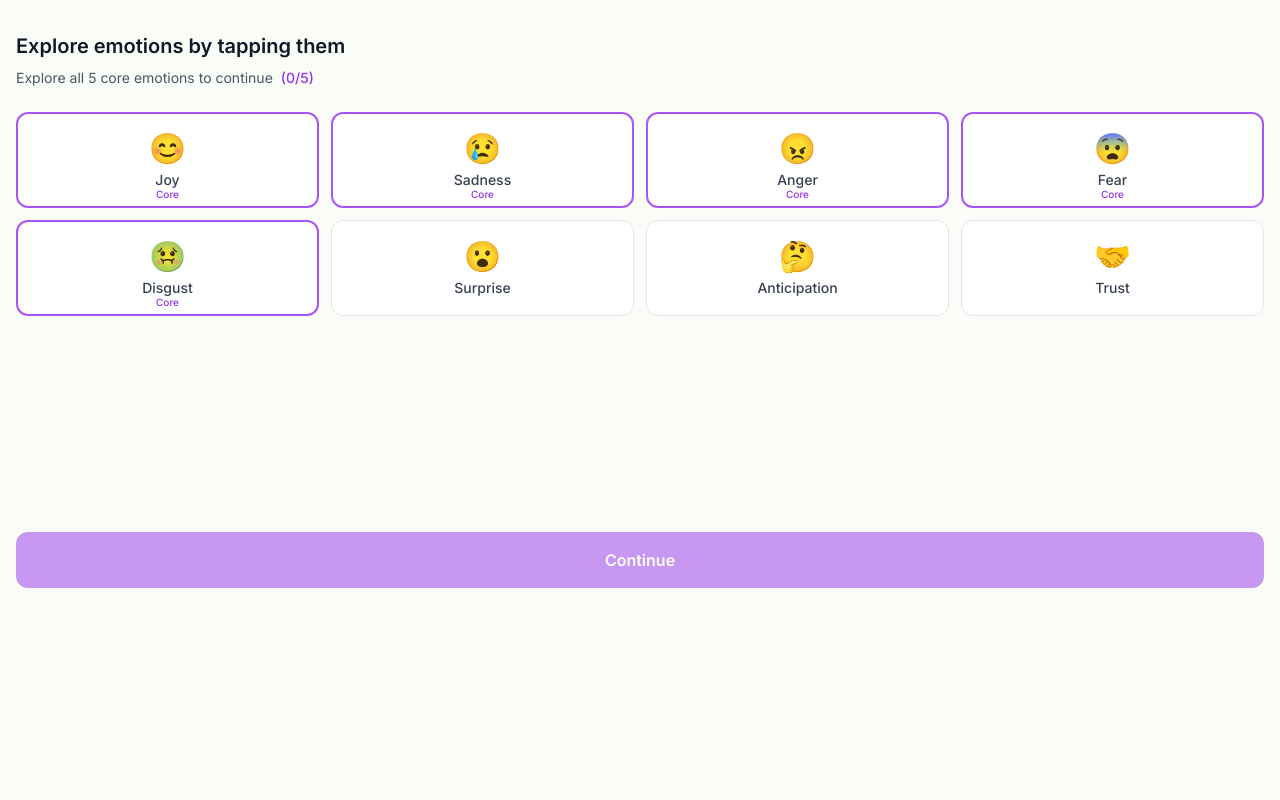
Test: EmojiGrid › modal functionality › closes modal when close button is clicked
# Open modal
Click the cell "😊 Joy Core". click: (168, 160)
box: x1=16 y1=112 x2=319 y2=208
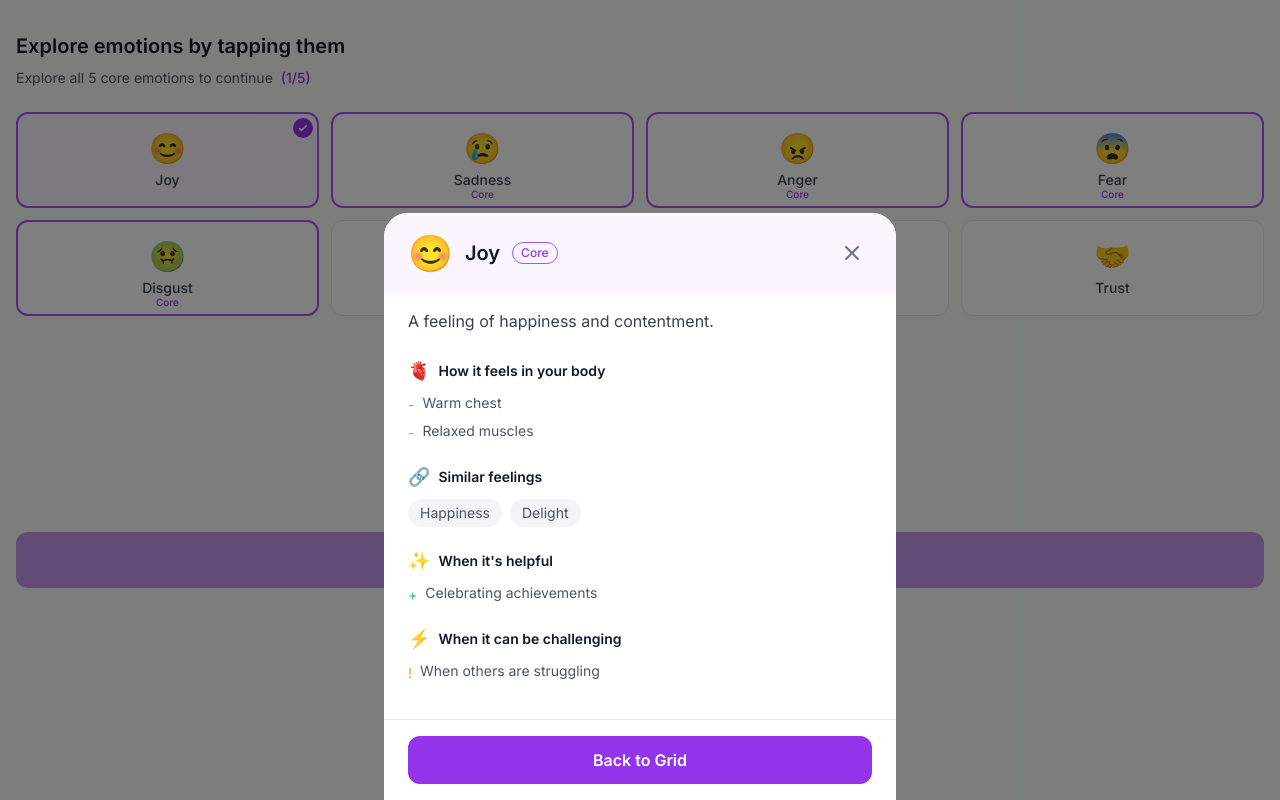
expect the dialog is shown: met
# Close modal
Click the button named "Close emotion details". click: (852, 253)
box: x1=832 y1=233 x2=872 y2=273
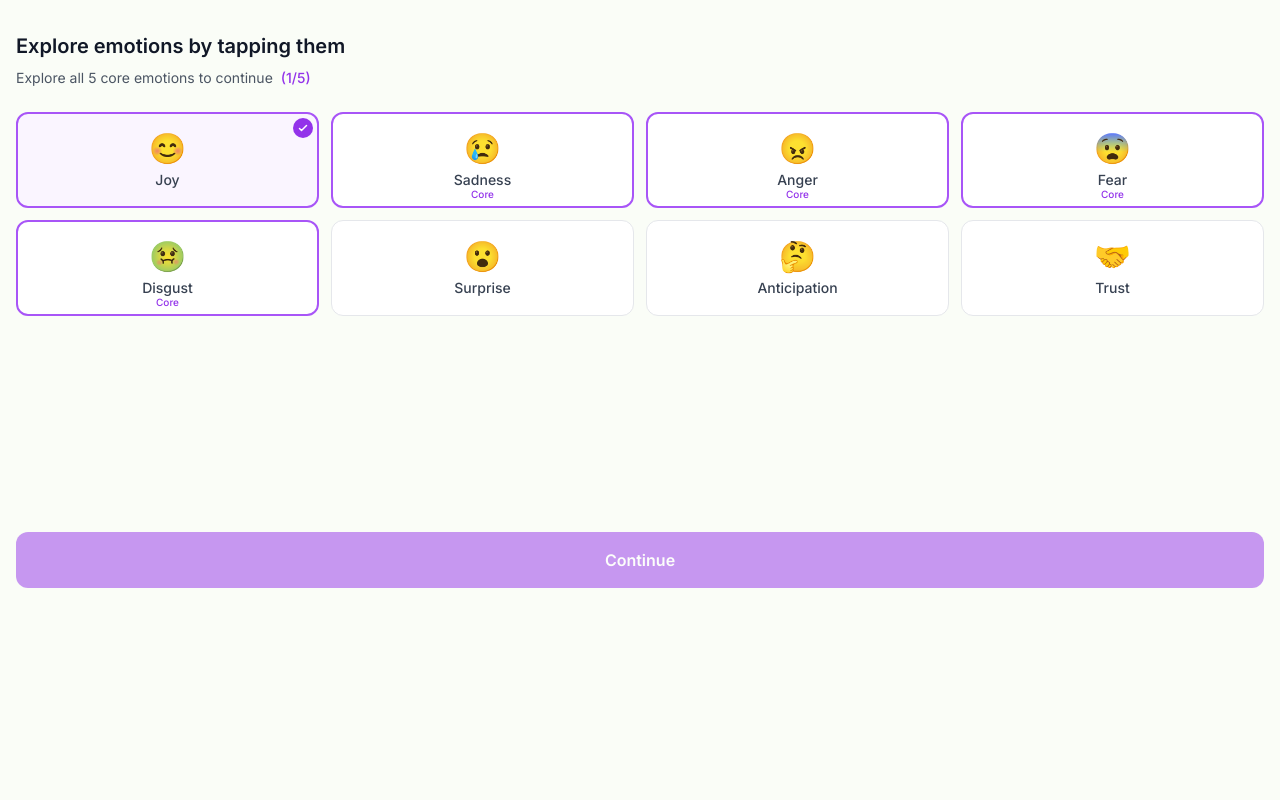
expect the dialog is gone: met
